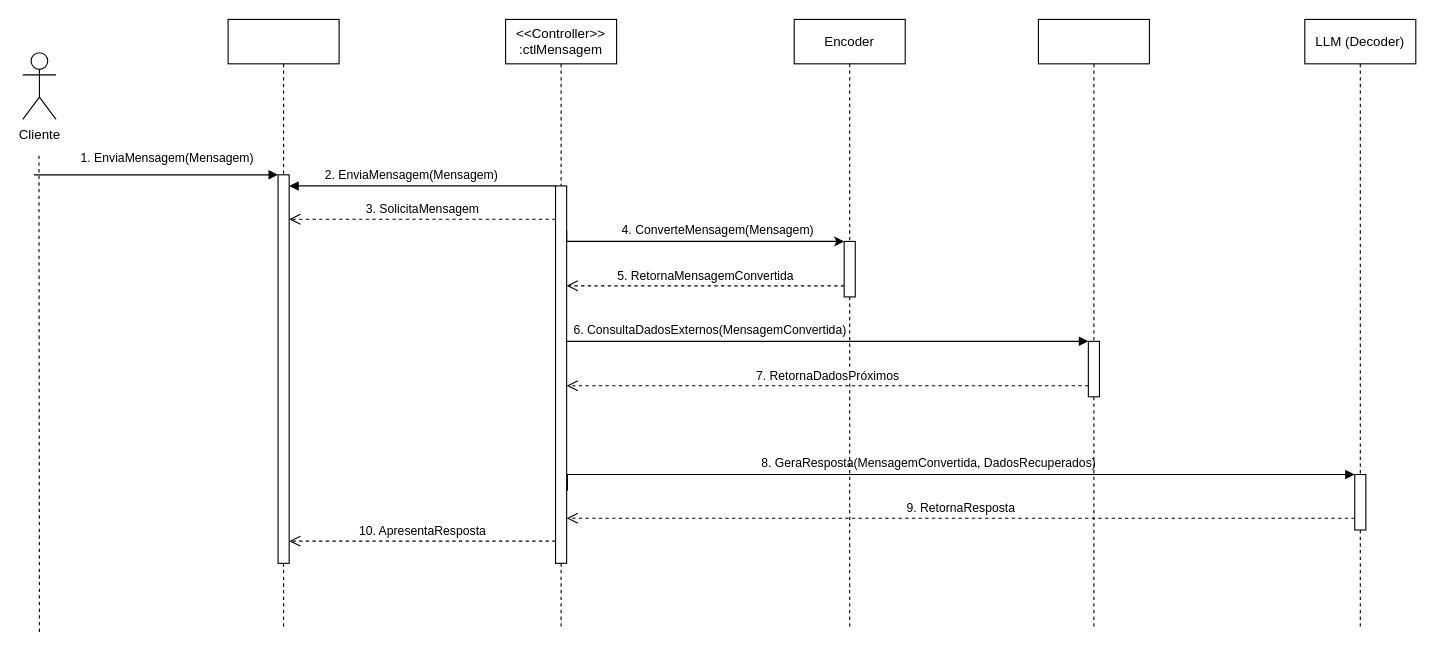
Image size: 1435x653. Some labels were removed from this diagram. The shapes that lost their labels are listed below. From the top down, each one's box as (x1, y1, x2, y2) in pixels, then its label:
(227, 18, 339, 630): <<Boundary>> :guiMensagem
(1037, 18, 1149, 630): <<Collection>> DadosExternos
